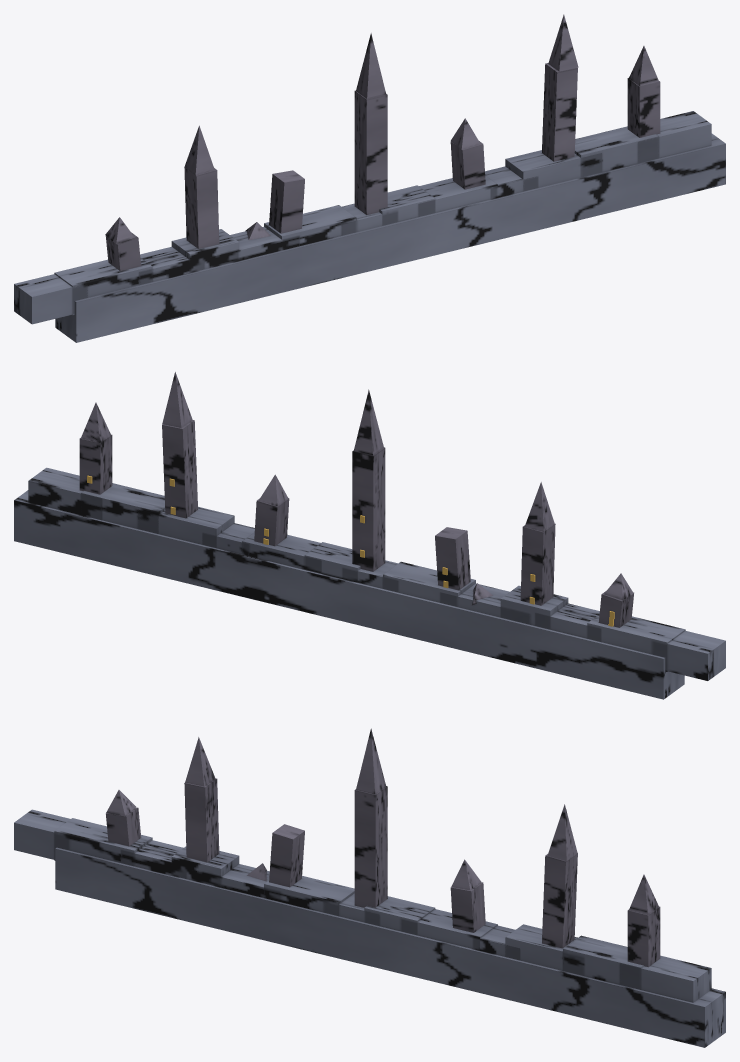
Rendered from BG_Ridge_Spires.obj.
The picture shows the model from 3 angles, top to bottom: view 1: azimuth 30°, elevation 25°; view 2: azimuth 150°, elevation 25°; view 3: azimuth 330°, elevation 25°; orthographic projection.
Parts seen in each view (by area): view 1: BG_Ridge_Spires; view 2: BG_Ridge_Spires; view 3: BG_Ridge_Spires.
Boxes of the visible parts, <box> form: BG_Ridge_Spires: <box>14,14,725,342</box>; BG_Ridge_Spires: <box>14,372,725,699</box>; BG_Ridge_Spires: <box>14,728,725,1047</box>.
Size of the model in its own units: 1 by 0.3149 by 0.0534.
Materials: 1 (1 with a texture image).
